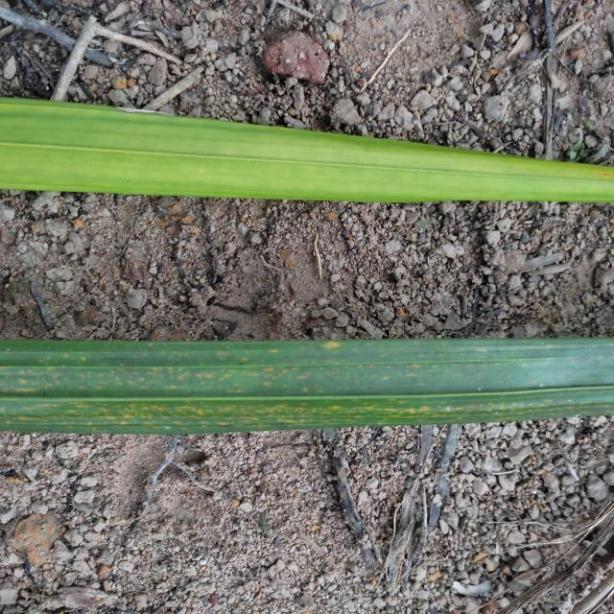nitrogen: (0, 88, 614, 208), (0, 337, 614, 435)
